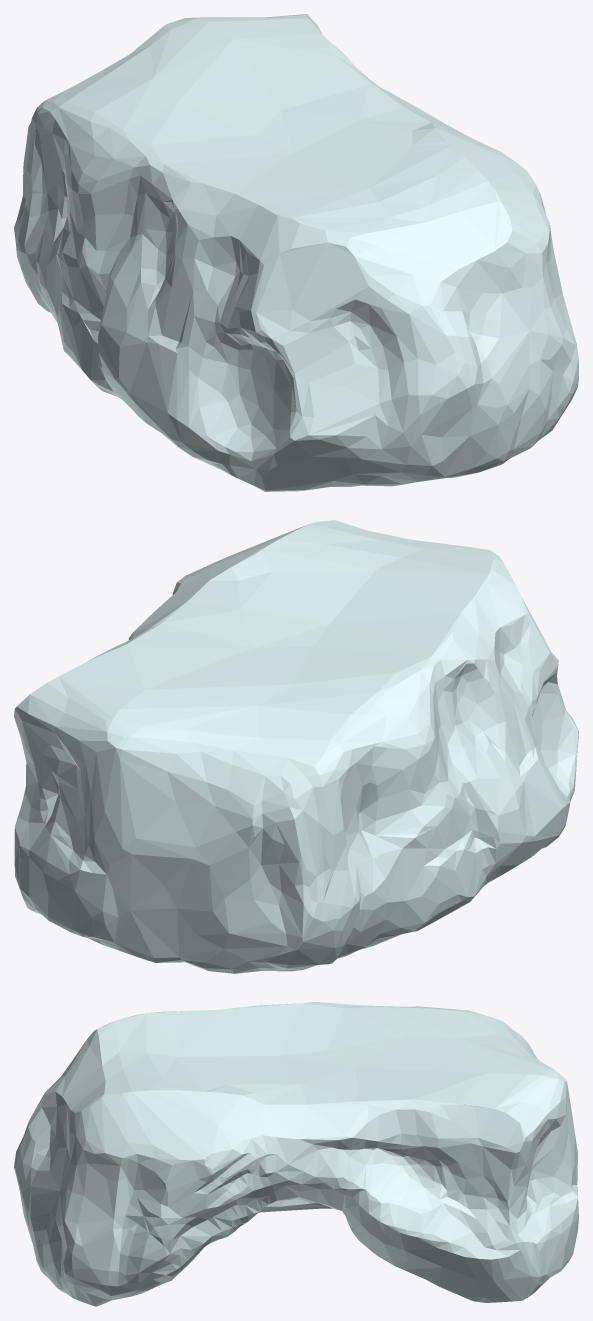
File: glacier_arch_001.fbx
3 views of the same model, one above another, from view 1: azimuth 30°, elevation 25°; view 2: azimuth 150°, elevation 25°; view 3: azimuth 270°, elevation 25° (orthographic). The views are drawn at different scales.
Parts seen in each view (by area): view 1: glacier_arch_001; view 2: glacier_arch_001; view 3: glacier_arch_001.
Part boxes in pixels (<box>): glacier_arch_001: <box>14,14,578,491</box>; glacier_arch_001: <box>14,520,578,973</box>; glacier_arch_001: <box>14,1002,578,1306</box>.
Bounding box in the file's own units: 2040 × 3138 × 1303.
